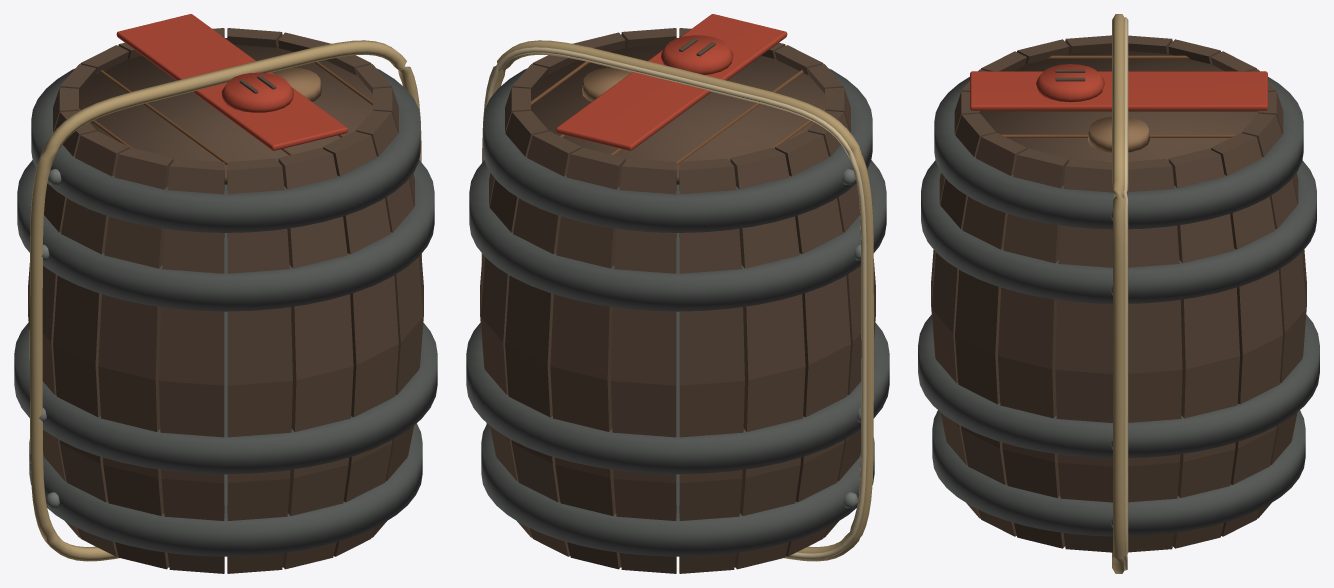
File: powder.glb
3 renders of one model, left to right at view 1: azimuth 30°, elevation 25°; view 2: azimuth 150°, elevation 25°; view 3: azimuth 270°, elevation 25°, orthographic. The views are drawn at different scales.
Parts seen in each view (by area): view 1: Cargo_powder; view 2: Cargo_powder; view 3: Cargo_powder.
Boxes of the visible parts, left/top/right/bottom form: Cargo_powder: left=14, top=14, right=437, bottom=573; Cargo_powder: left=466, top=14, right=889, bottom=573; Cargo_powder: left=918, top=14, right=1319, bottom=573.
Size of the model in its own units: 0.62 by 0.7037 by 0.5801.
